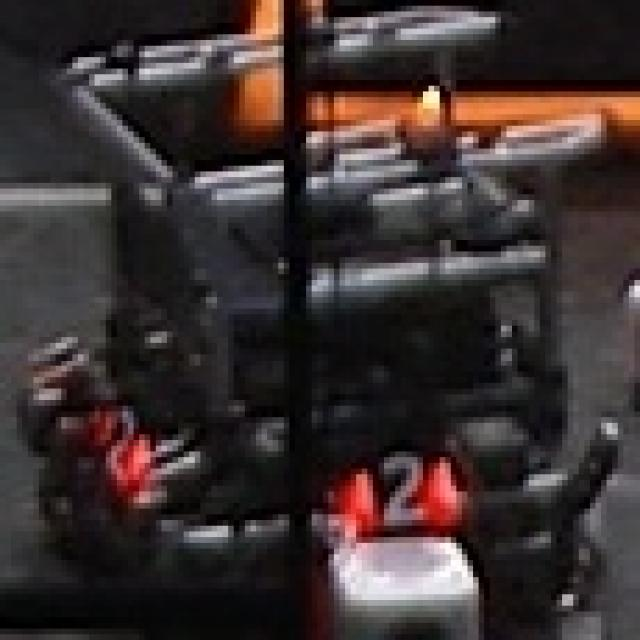R2: (345, 440, 462, 537), (95, 394, 150, 497)
